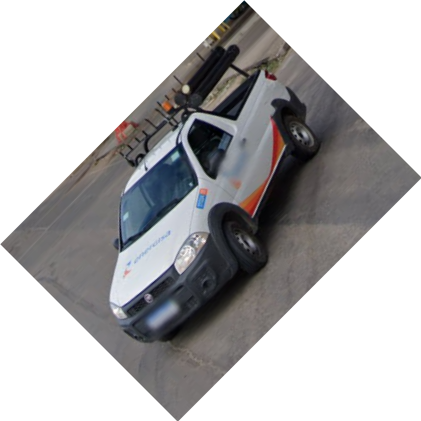car: (109, 44, 321, 346)
